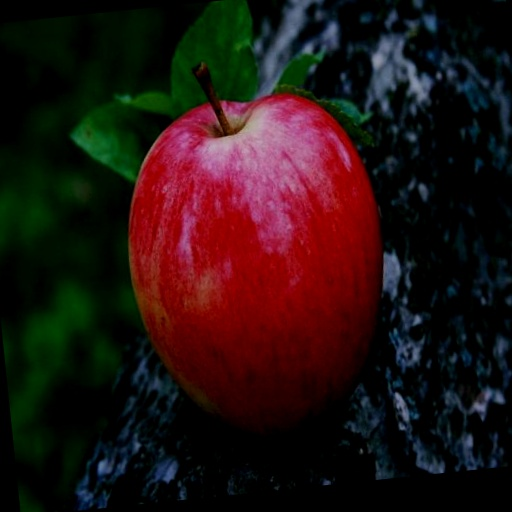fruit: (128, 94, 382, 440)
